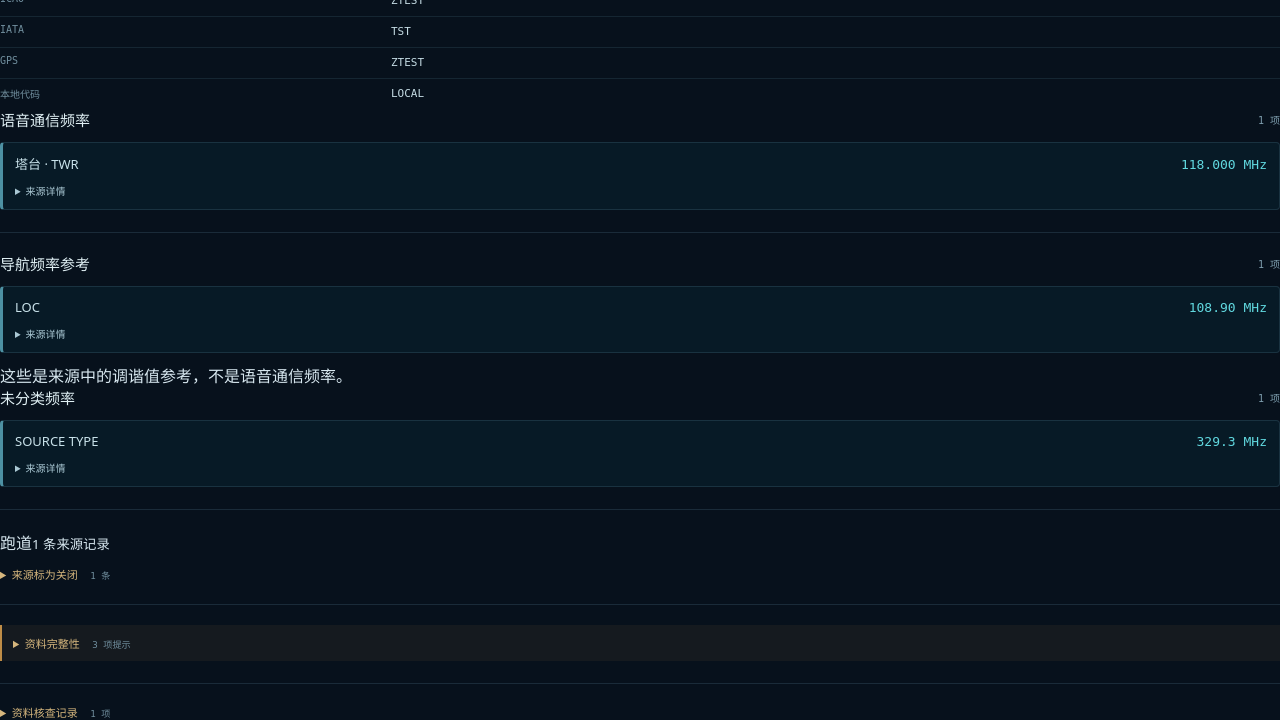
Test: public airport details › omits the review section when notes are absent and shows original values when present
This screenshot has width=1280, height=720.
(page scrolled)
Click the heading "资料核查记录 1 项" at (61, 713), box top-left (12, 707), bottom-right (110, 719)
(page scrolled)
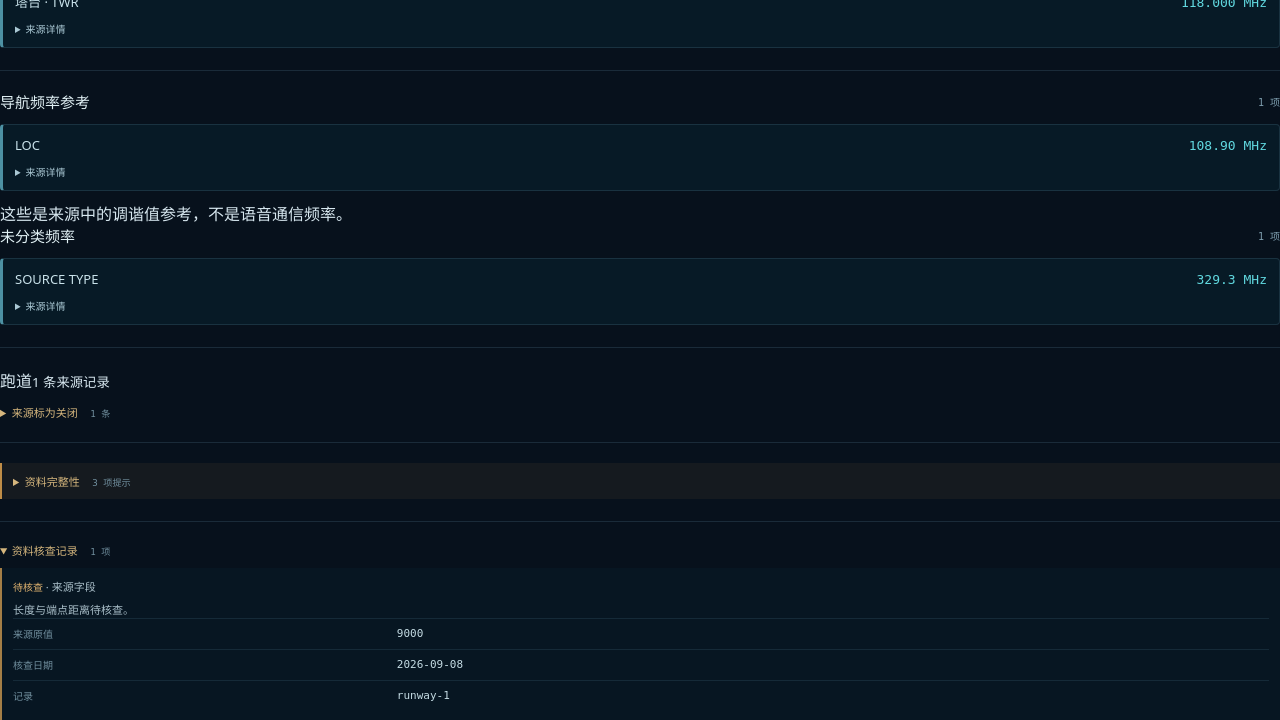
Check: the text "9000" is shown, box top-left (397, 627), bottom-right (423, 640)
Check: the text "2026-09-08" is shown, box top-left (397, 658), bottom-right (463, 671)
